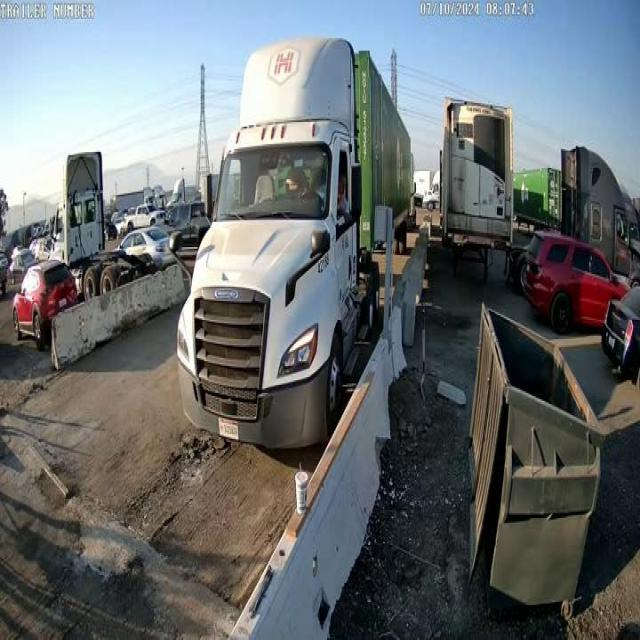TRUCK_CONTAINER: (176, 36, 412, 451)
